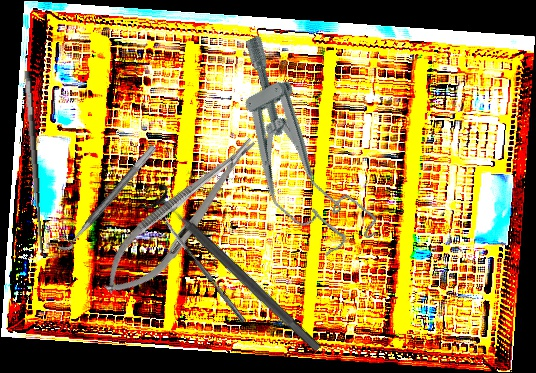Fixation Ring: (138, 180, 331, 363), (51, 136, 158, 256)
Hook Surgical: (22, 69, 59, 259)
Needle Holder: (89, 123, 273, 310)
Speculum: (200, 26, 384, 271)
Surgical Spoon: (160, 214, 247, 324)
